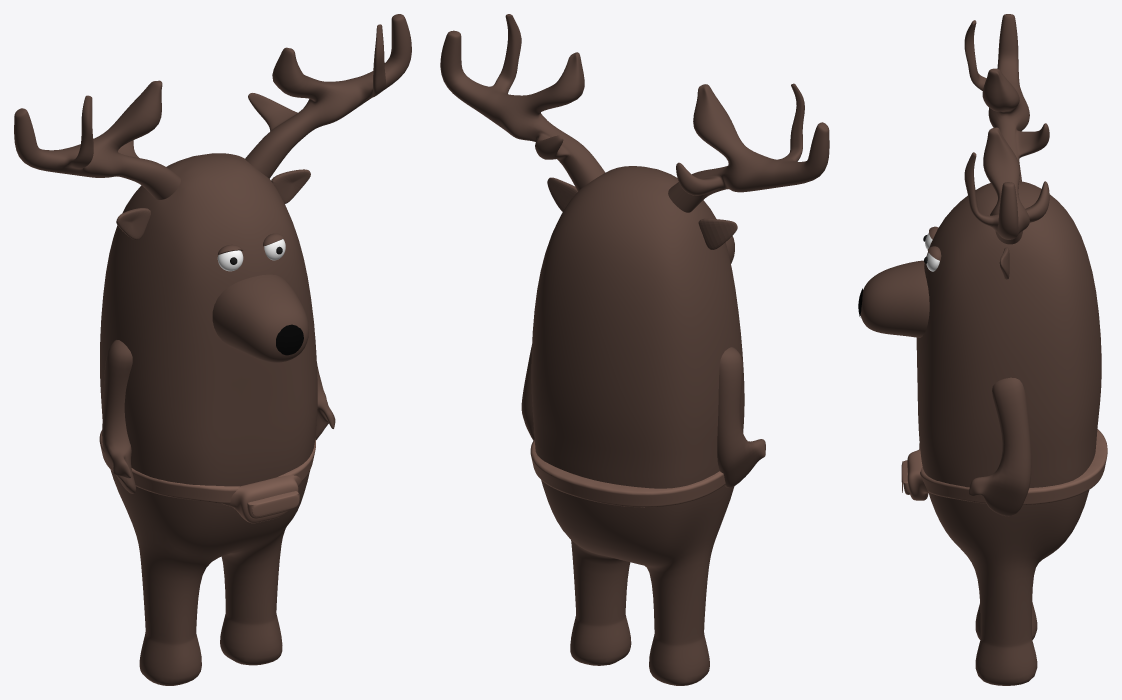
Rendered from cornwall-01.glb.
3 views of the same model, side by side, from view 1: azimuth 30°, elevation 25°; view 2: azimuth 150°, elevation 25°; view 3: azimuth 270°, elevation 25° (orthographic). The views are drawn at different scales.
Parts seen in each view (by area): view 1: Body Low Poly.002, Cube.011, Cube.010, Cube.012, Cube.013, Cylinder.001, Cube.017, Cube.018, Cube.016, Cube.015, Cube.014, Circle.005; view 2: Body Low Poly.002, Cube.011, Cube.010, Cylinder.001, Cube.013, Cube.015, Cube.014, Cube.016; view 3: Body Low Poly.002, Cube.010, Cube.014, Cube.011, Cube.012, Cylinder.001, Cube.017.
Part boxes in pixels (x1=…): Body Low Poly.002: x1=100, y1=153, x2=317, y2=685; Cube.011: x1=245, y1=14, x2=411, y2=178; Cube.010: x1=14, y1=80, x2=180, y2=199; Cube.012: x1=212, y1=274, x2=308, y2=362; Cube.013: x1=102, y1=340, x2=135, y2=493; Cylinder.001: x1=99, y1=430, x2=315, y2=503; Cube.017: x1=222, y1=475, x2=301, y2=523; Cube.018: x1=247, y1=491, x2=299, y2=518; Cube.016: x1=271, y1=169, x2=310, y2=203; Cube.015: x1=116, y1=208, x2=150, y2=239; Cube.014: x1=314, y1=324, x2=335, y2=439; Circle.005: x1=276, y1=324, x2=303, y2=355; Body Low Poly.002: x1=531, y1=166, x2=744, y2=685; Cube.011: x1=440, y1=14, x2=605, y2=191; Cube.010: x1=668, y1=83, x2=829, y2=212; Cylinder.001: x1=530, y1=439, x2=725, y2=507; Cube.013: x1=717, y1=347, x2=765, y2=487; Cube.015: x1=698, y1=218, x2=737, y2=249; Cube.014: x1=521, y1=345, x2=534, y2=440; Cube.016: x1=547, y1=177, x2=577, y2=211; Body Low Poly.002: x1=916, y1=181, x2=1101, y2=685; Cube.010: x1=964, y1=14, x2=1049, y2=181; Cube.014: x1=969, y1=377, x2=1031, y2=516; Cube.011: x1=964, y1=127, x2=1049, y2=244; Cube.012: x1=860, y1=260, x2=929, y2=337; Cylinder.001: x1=919, y1=429, x2=1107, y2=505; Cube.017: x1=907, y1=449, x2=929, y2=500.
Bounding box in the file's own units: 3.19 × 4.78 × 1.87.
